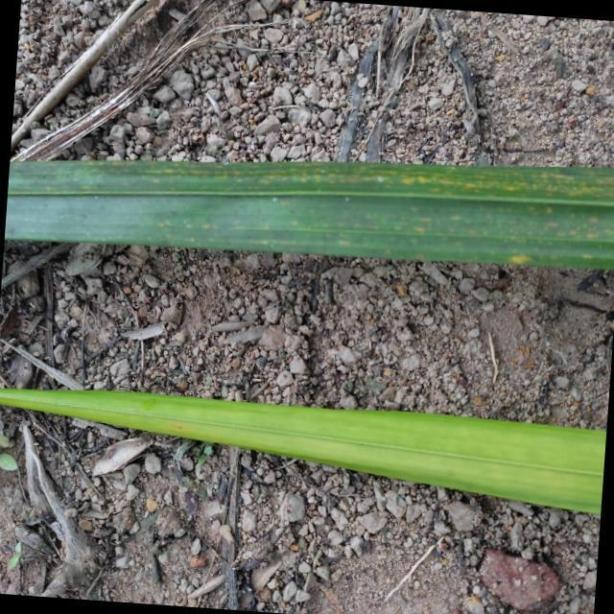nitrogen: (3, 377, 614, 518), (6, 153, 614, 272)
